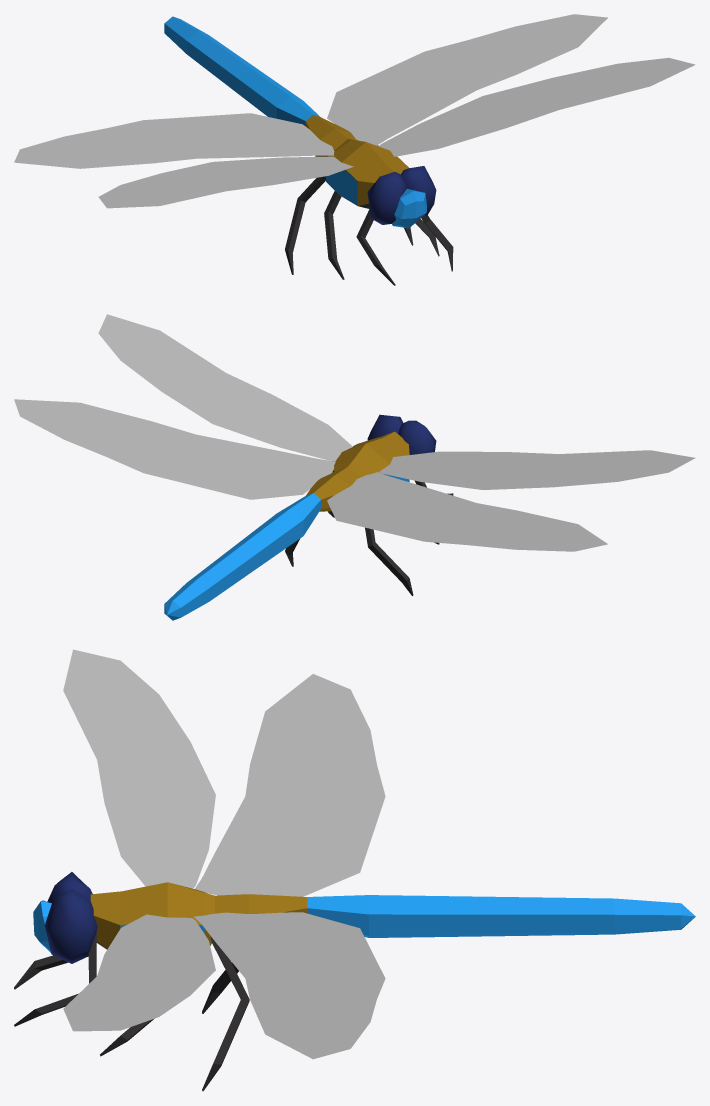
Rendered from dragonfly.glb.
3 renders of one model, top to bottom at view 1: azimuth 30°, elevation 25°; view 2: azimuth 150°, elevation 25°; view 3: azimuth 270°, elevation 25°, orthographic. The views are drawn at different scales.
Parts seen in each view (by area): view 1: Geo_Dragonfly; view 2: Geo_Dragonfly; view 3: Geo_Dragonfly.
Part boxes in pixels (box(x1,y1,x2,y2)): Geo_Dragonfly: box(14, 14, 695, 285); Geo_Dragonfly: box(14, 314, 695, 620); Geo_Dragonfly: box(14, 649, 695, 1091).
Bounding box in the file's own units: 0.12 × 0.0308 × 0.0897.
2 materials, 1 textured.
